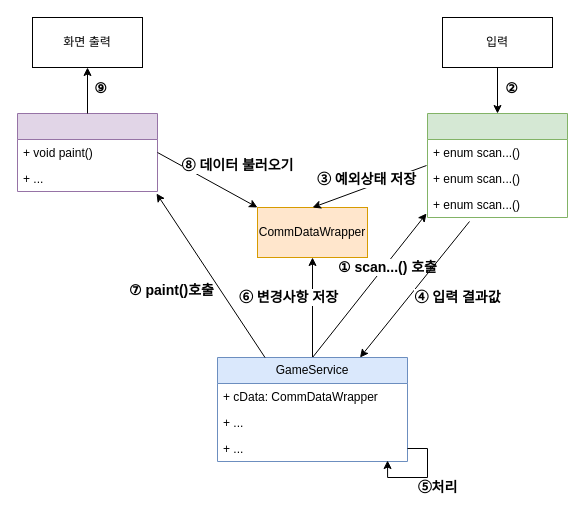
The diagram is 585 pixels wide and 513 high, and some of its shapes have lost their labels. The shapes that lost their labels are listed below. From the top down, each one's box as (x1, y1, x2, y2) in pixels, then its label:
(16, 112, 158, 192): UIService
(426, 112, 568, 218): ScanService
